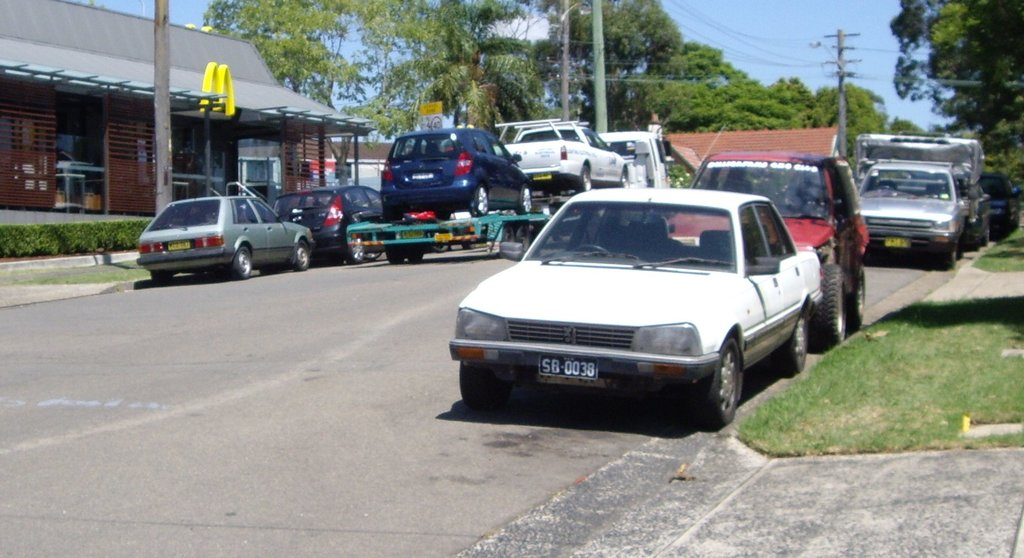Car: (138, 115, 1019, 425)
